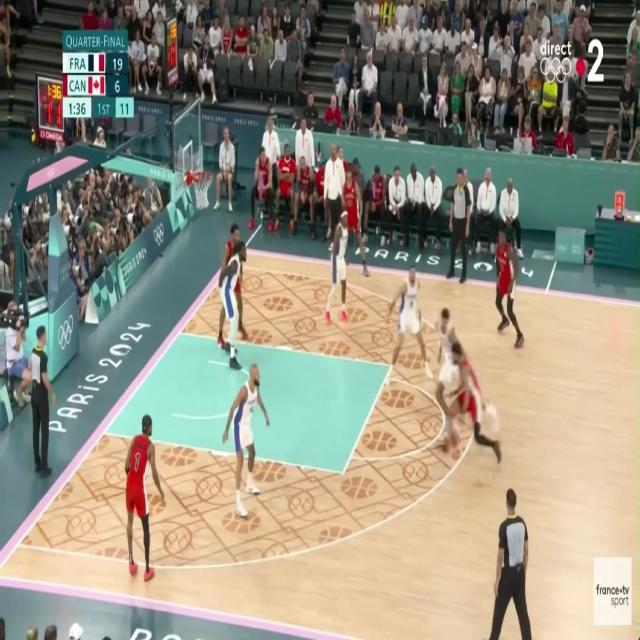ball_handler: (447, 342, 501, 464)
